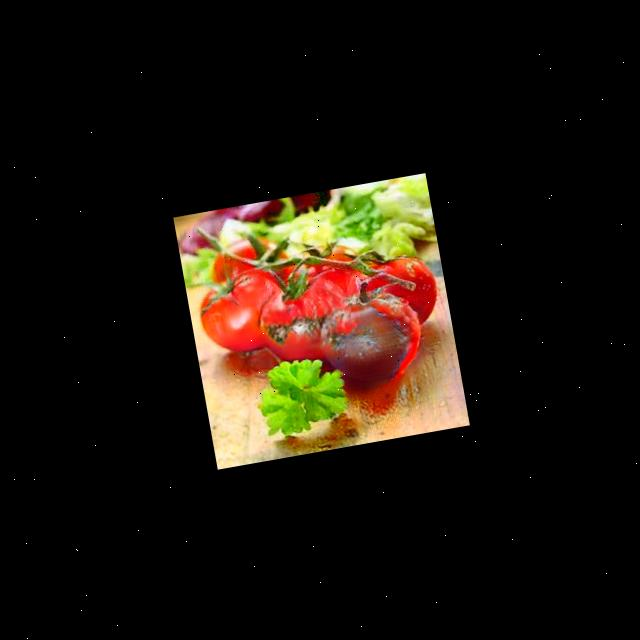tomato: (316, 284, 424, 389), (253, 270, 348, 364)
